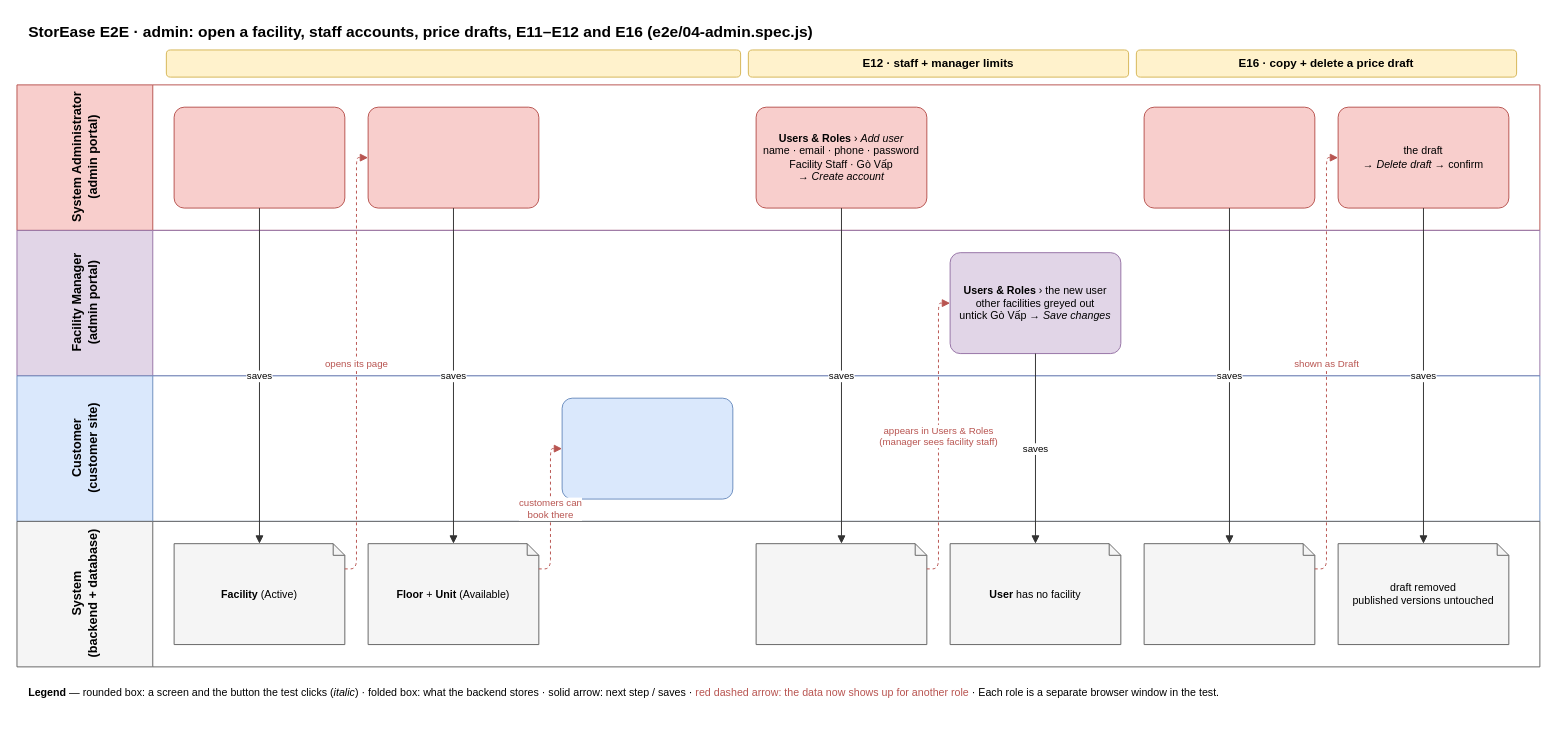
Image size: 1567x735. Some labels were removed from this diagram. The centre of each missing label's shape, as x and y in pixels:
"/locations (public) lists the new facility" belongs at (647,448).
"Draft = copy of the live version (prices, discounts, fees, terms)" belongs at (1229,594).
"E11 · open a facility" belongs at (453,63).
"Facilities › Add facility name · code · address · district → Create facility" belongs at (259,157).
"facility page Floor 1 → Add floor size + E2E-101 → Add unit" belongs at (453,157).
"Pricing & Policies → Copy version N to a new draft prices come along (900000)" belongs at (1229,157).
"User = Facility Staff at Gò Vấp" belongs at (841,594).
